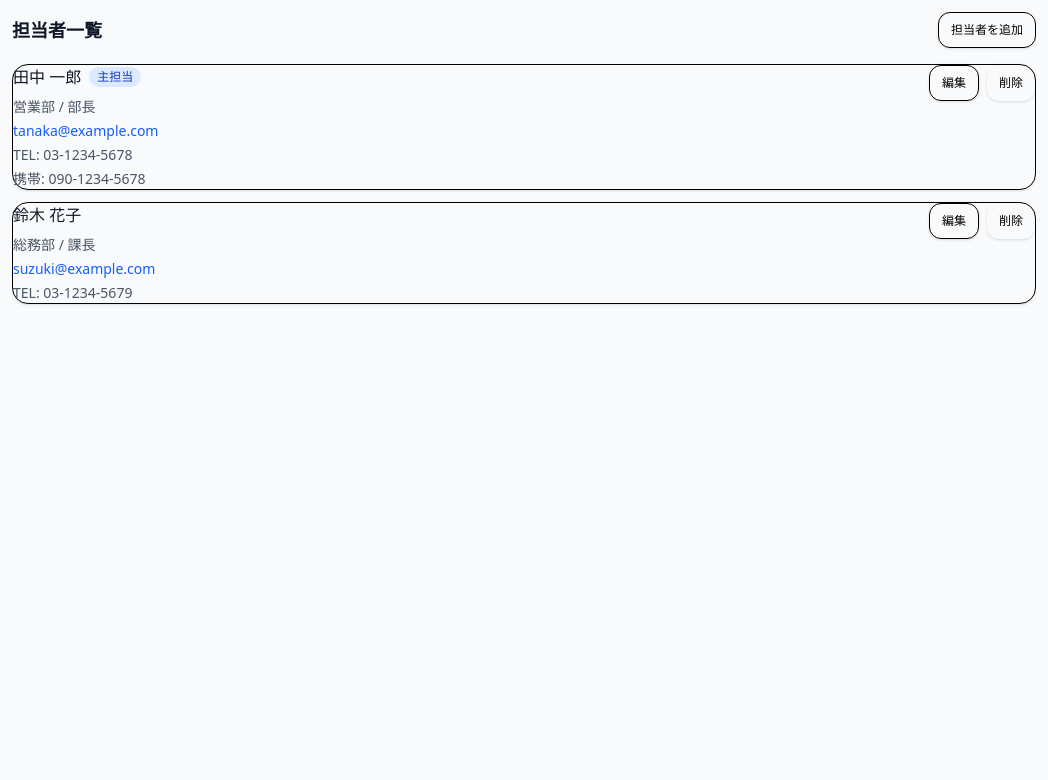
Test: CustomerContactList › 担当者追加 › キャンセルボタンで追加フォームが閉じる
Click the button "担当者を追加".
click(987, 30)  # box [938, 12, 1036, 48]
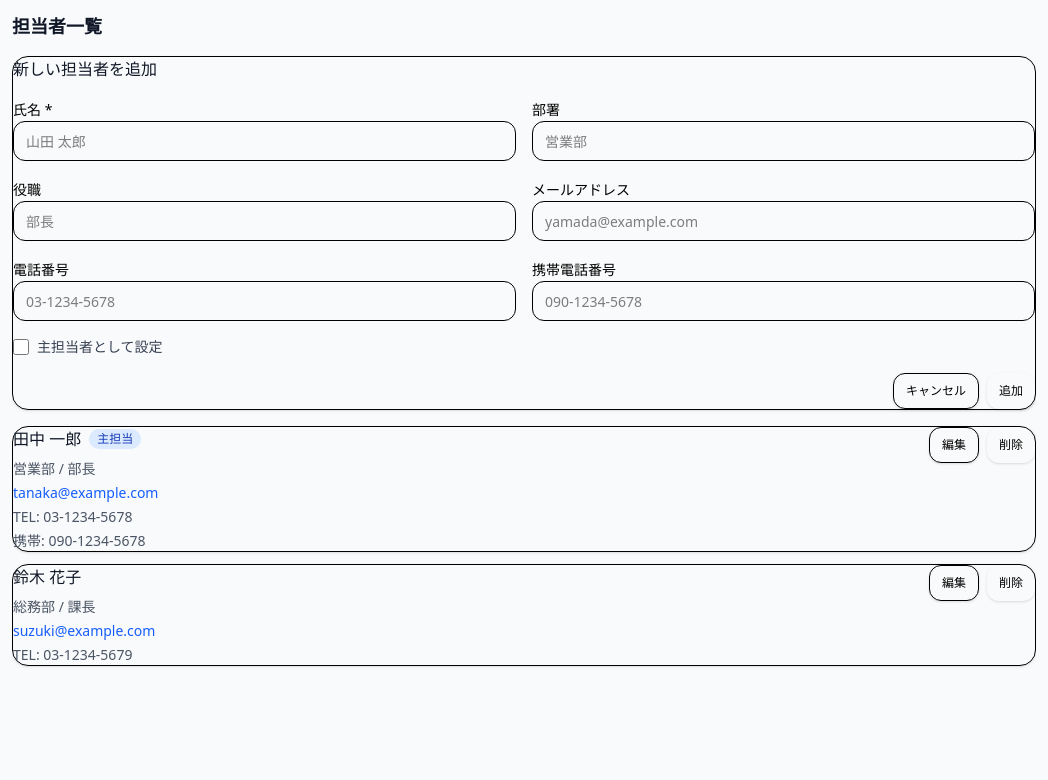
Expected: the heading "新しい担当者を追加" is shown, [13, 58, 157, 80]
Click the button "キャンセル".
click(936, 391)  # box [893, 373, 979, 409]
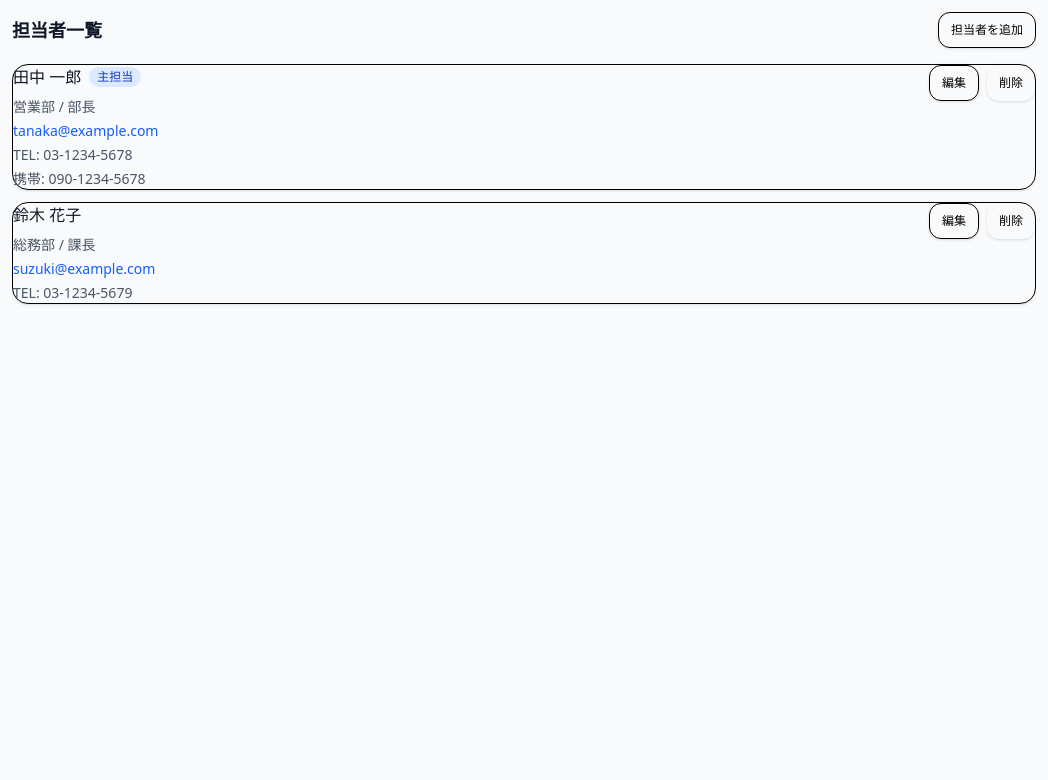
Expected: the heading "新しい担当者を追加" is gone
